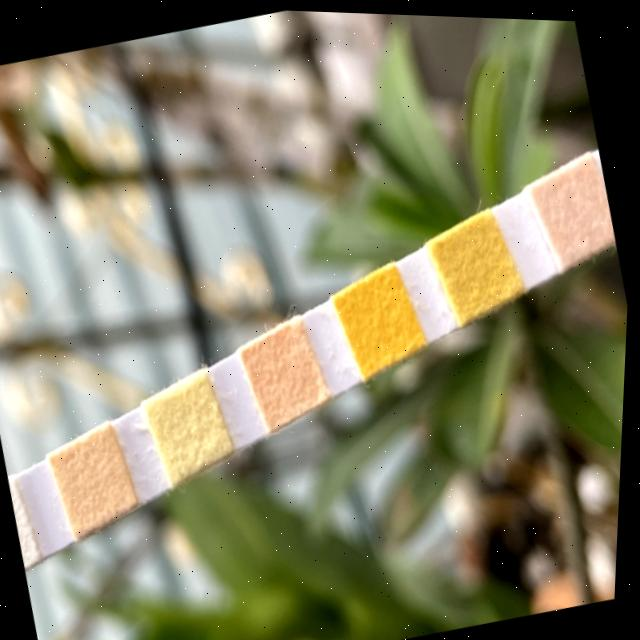Blood: (347, 272, 417, 358)
Ketone: (541, 161, 618, 250)
Nitrite: (12, 493, 39, 566)
Protein: (155, 383, 229, 468)
SpGravity: (443, 218, 515, 308)
Urobilinogen: (63, 436, 133, 521)
pH: (252, 328, 323, 414)
